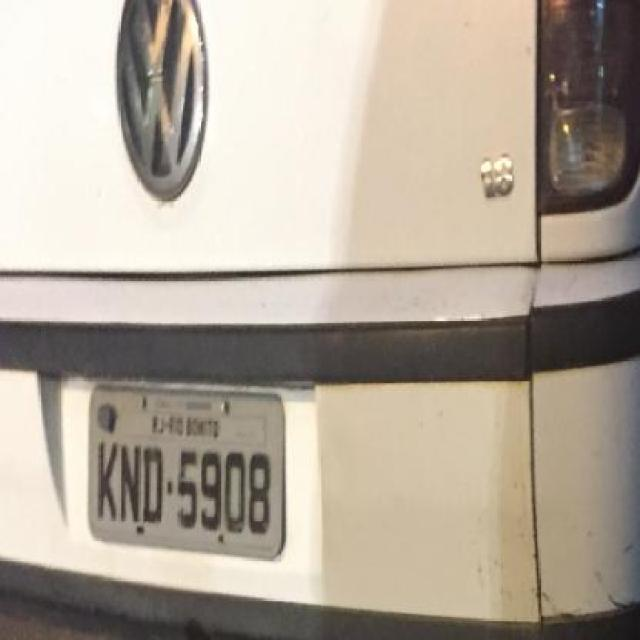old_plate: (84, 380, 293, 564)
